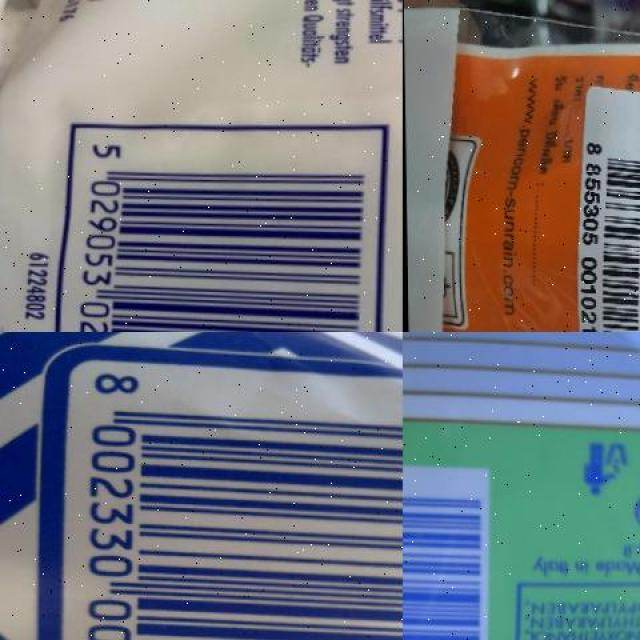Barcode: (65, 362, 402, 640), (60, 125, 376, 332), (403, 460, 492, 640), (574, 126, 640, 332)
